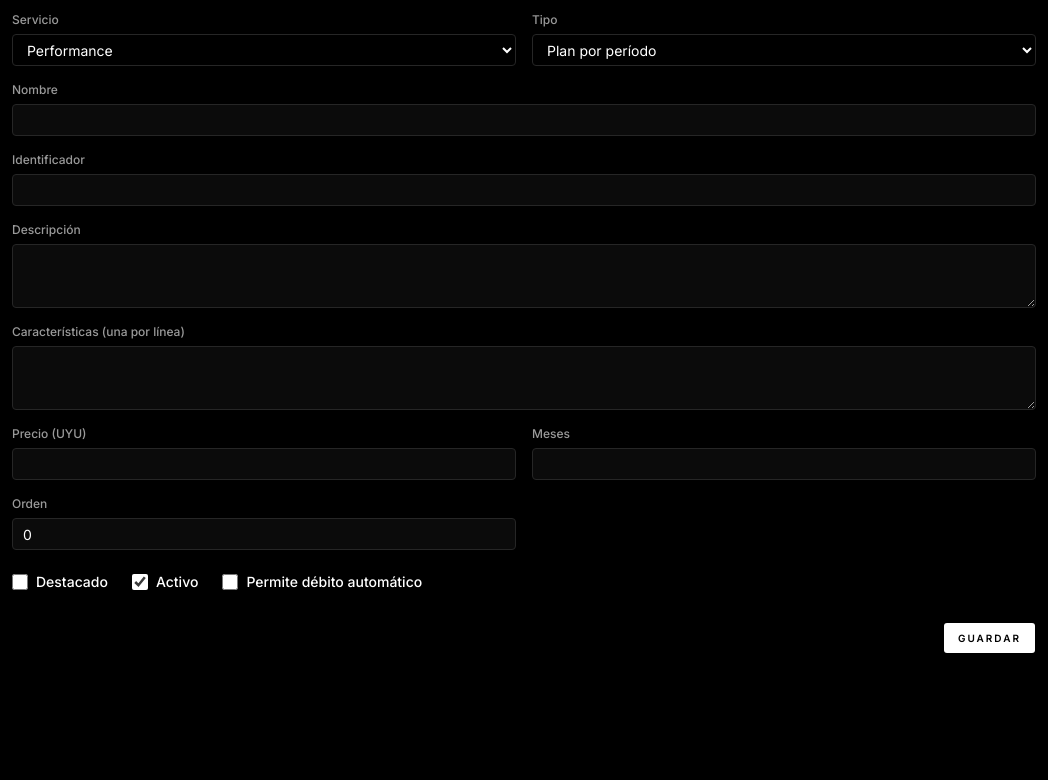
Test case: PlanForm › rejects an invalid slug
In the field labelled "Identificador": (524, 190) [12, 174, 1036, 206], type "Plan Anual"
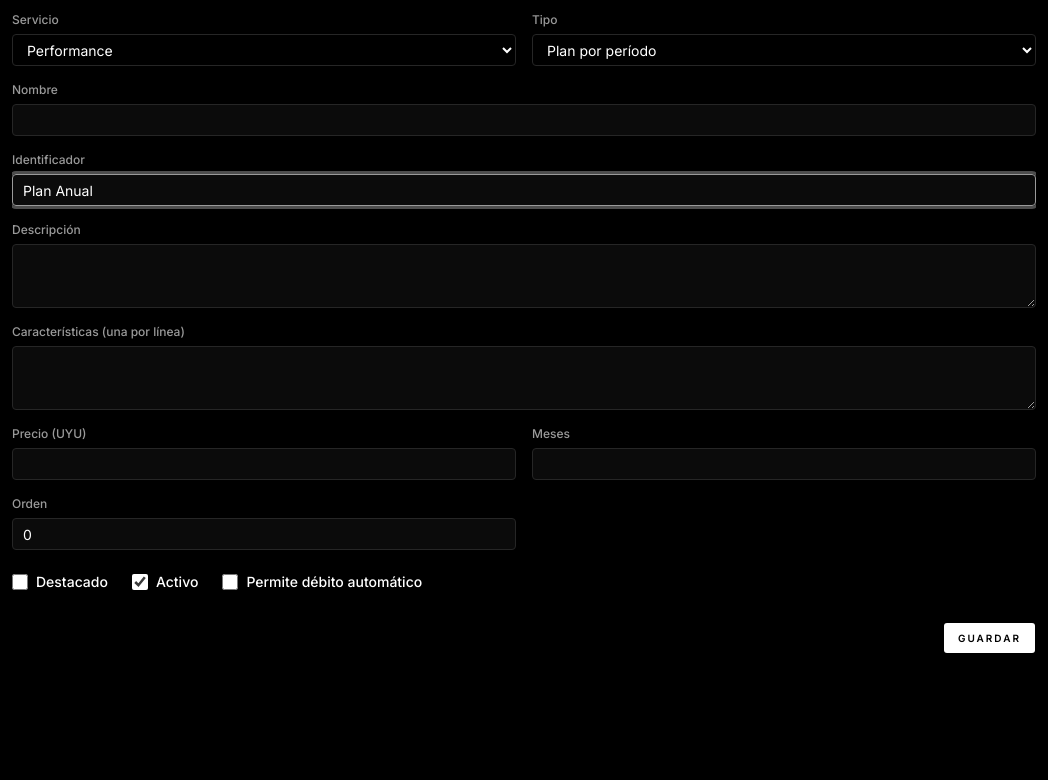
Click the button "Guardar": (989, 638) [943, 622, 1036, 654]
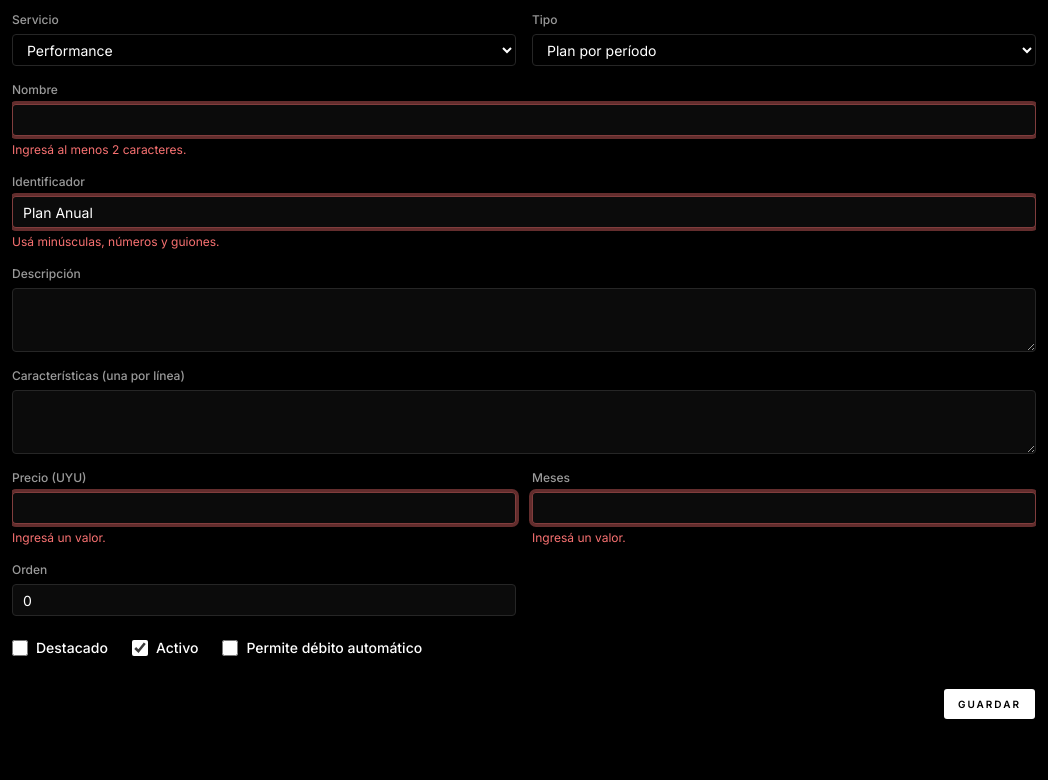
Expected: the text "Usá minúsculas, números y guiones." is shown, [12, 234, 220, 249]
